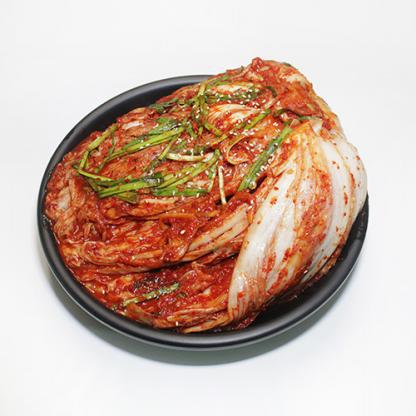kimchi: (36, 66, 372, 342)
